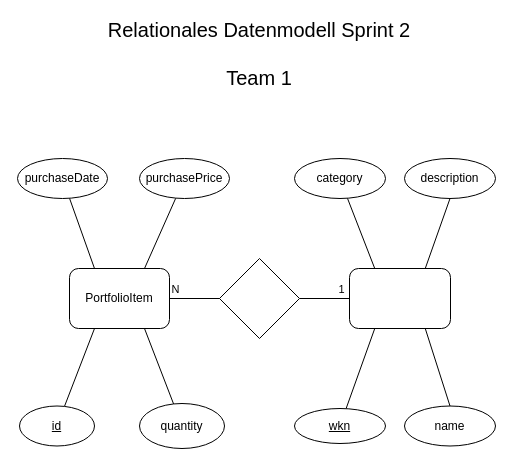
This 513x466 diagram has some shape labels left out. Here are the shapes that lost their labels. From the top down, the centre of each, then its label:
At [259,298]: "besteht aus".
At [399,298]: "Share".
